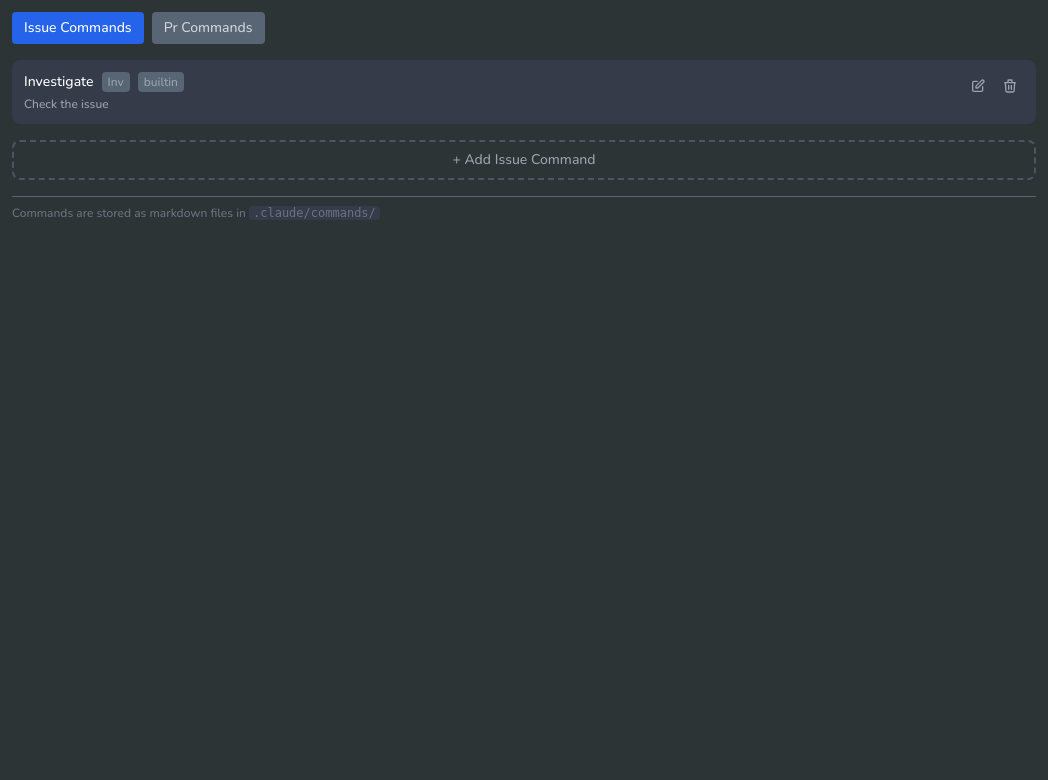
CommandEditor › Editing Commands › shows edit form when edit button is clicked
Find and click edit button
What coordinates should you click on to do the following:
click the button named "Edit"
I would click on:
 (978, 86)
Its box is [964,72,992,100].
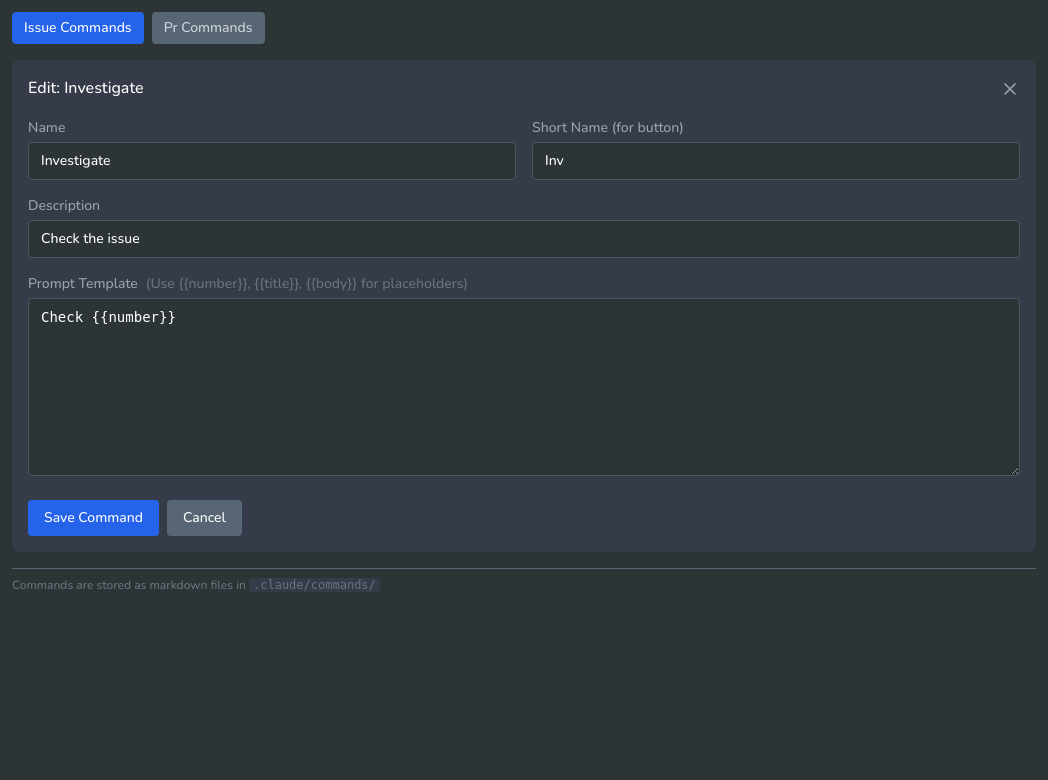
expect the heading "Edit: Investigate" is shown: met, box [28,76,144,102]
expect the 1st field with placeholder "Fix Suggestion" holds "Investigate": met, box [28,142,516,180]
expect the field with placeholder "Fix" below "Short Name (for button)" holds "Inv": met, box [532,142,1020,180]
